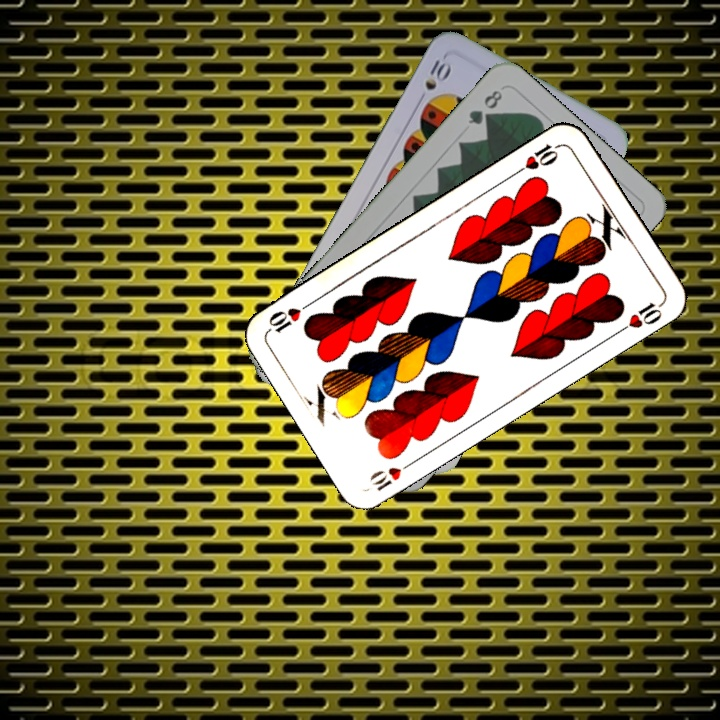G8: (464, 85, 505, 128)
H10: (366, 455, 419, 494), (511, 140, 564, 177)
S10: (413, 52, 454, 107)
